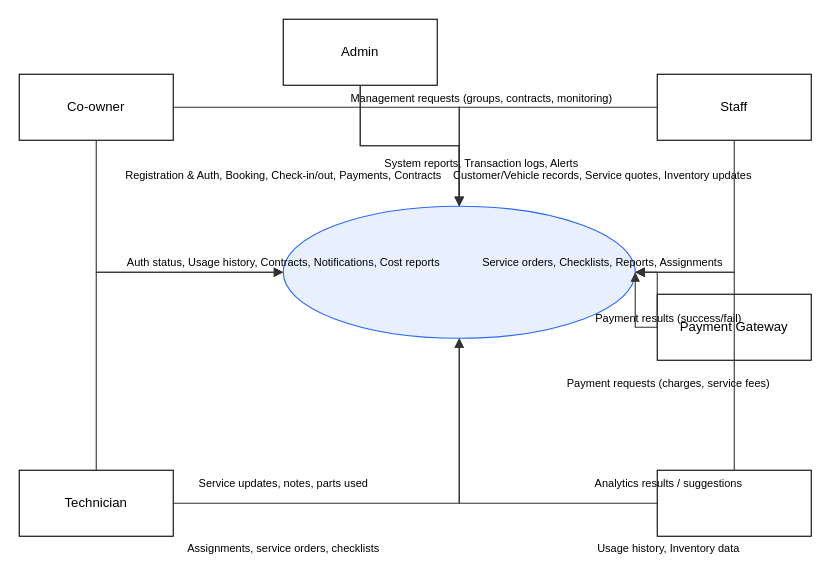
This 831x578 diagram has some shape labels left out. The box of each missing label's shape, as (x1, y1, x2, y2) in pixels:
AI / Analytics: (656, 469, 811, 536)
EV Co-ownership & Cost-sharing System: (282, 205, 635, 338)
